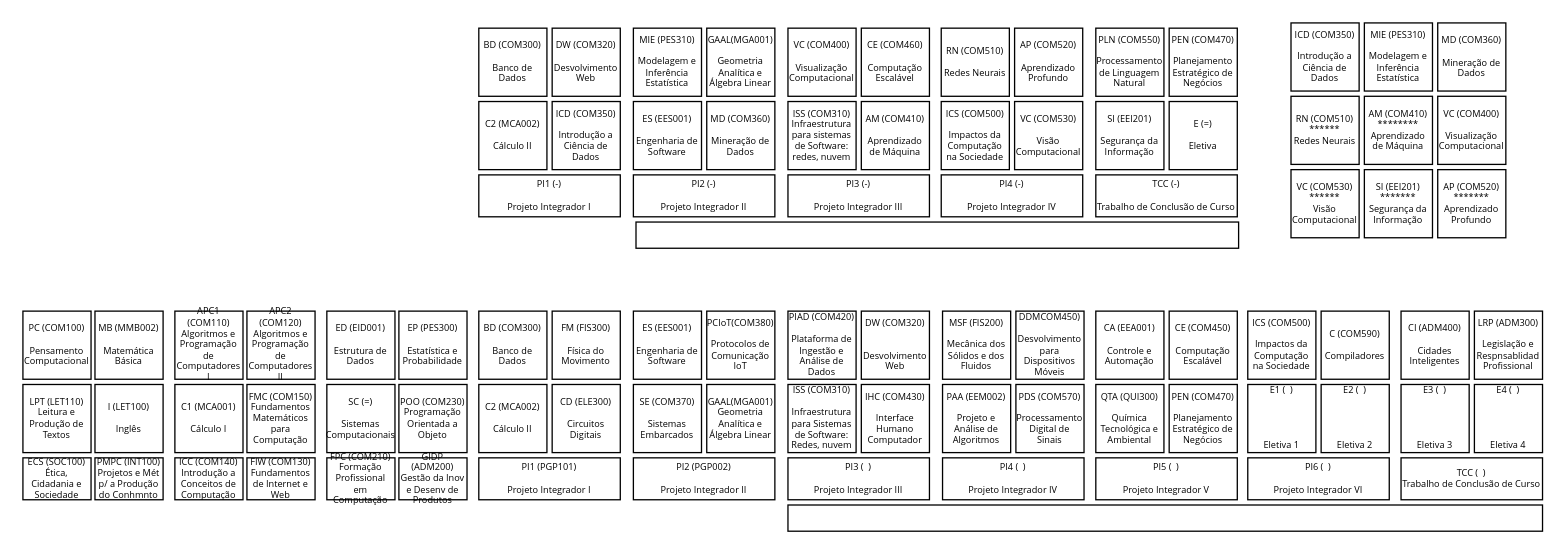
The diagram is 1565 pixels wide and 554 high, and some of its shapes have lost their labels. The shapes that lost their labels are listed below. From the top down, each one's centre as x and y in pixels, then its label:
point 937,234: Estágio Supervisionado / Atividades Profissionais [300 horas]
point 1165,517: Estágio Supervisionado / Atividades Profissionais [400 horas]
